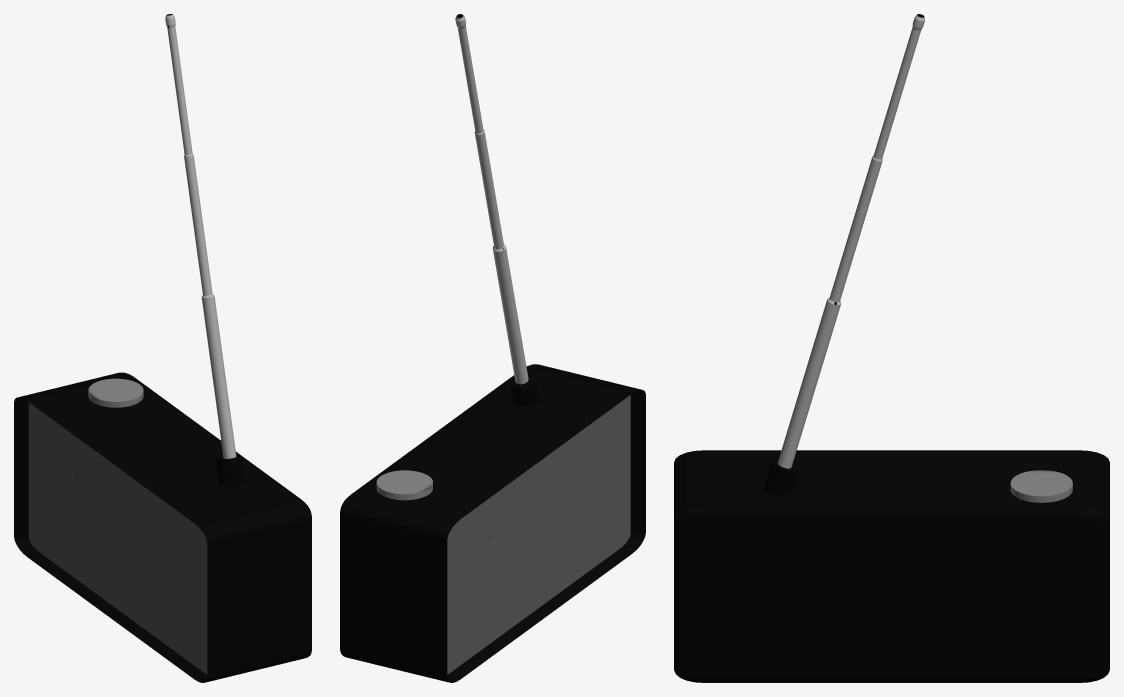
The model's file is alarmklok.fbx.
3 renders of one model, left to right at view 1: azimuth 30°, elevation 25°; view 2: azimuth 150°, elevation 25°; view 3: azimuth 270°, elevation 25°, orthographic. The views are drawn at different scales.
Parts seen in each view (by area): view 1: Cube; view 2: Cube; view 3: Cube.
Part boxes in pixels (<box>): Cube: <box>14,14,311,682</box>; Cube: <box>340,14,645,682</box>; Cube: <box>674,14,1109,682</box>.
Size of the model in its own units: 147 by 740 by 449.
Materials: 1 (1 with a texture image).
